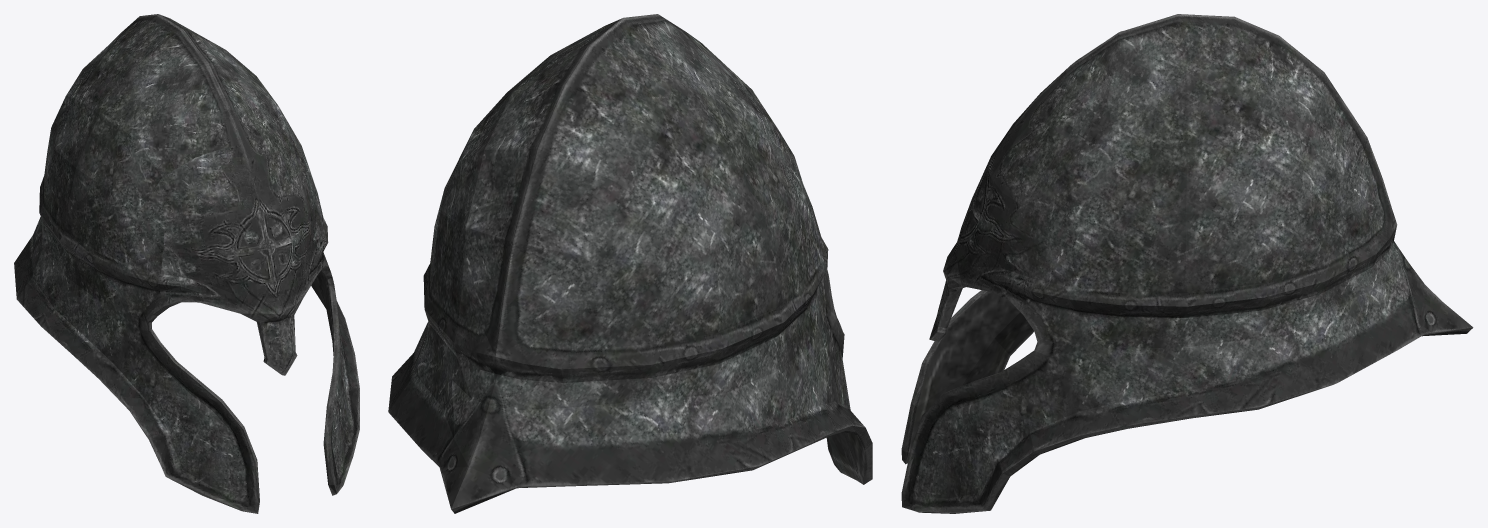
Rendered from ITHL_HELMET_S_DAWNGUARD.glb.
3 renders of one model, left to right at view 1: azimuth 30°, elevation 25°; view 2: azimuth 150°, elevation 25°; view 3: azimuth 270°, elevation 25°, orthographic. The views are drawn at different scales.
Visible parts, largest first — view 1: ITHL_HELMET_S_DAWNGUARD; view 2: ITHL_HELMET_S_DAWNGUARD; view 3: ITHL_HELMET_S_DAWNGUARD.
Part boxes in pixels (x1,y1,x2,y2): ITHL_HELMET_S_DAWNGUARD: (14,14,359,513); ITHL_HELMET_S_DAWNGUARD: (388,14,872,513); ITHL_HELMET_S_DAWNGUARD: (901,14,1473,513).
Bounding box in the file's own units: 0.2704 × 0.3759 × 0.4128.
Materials: 1 (1 with a texture image).
